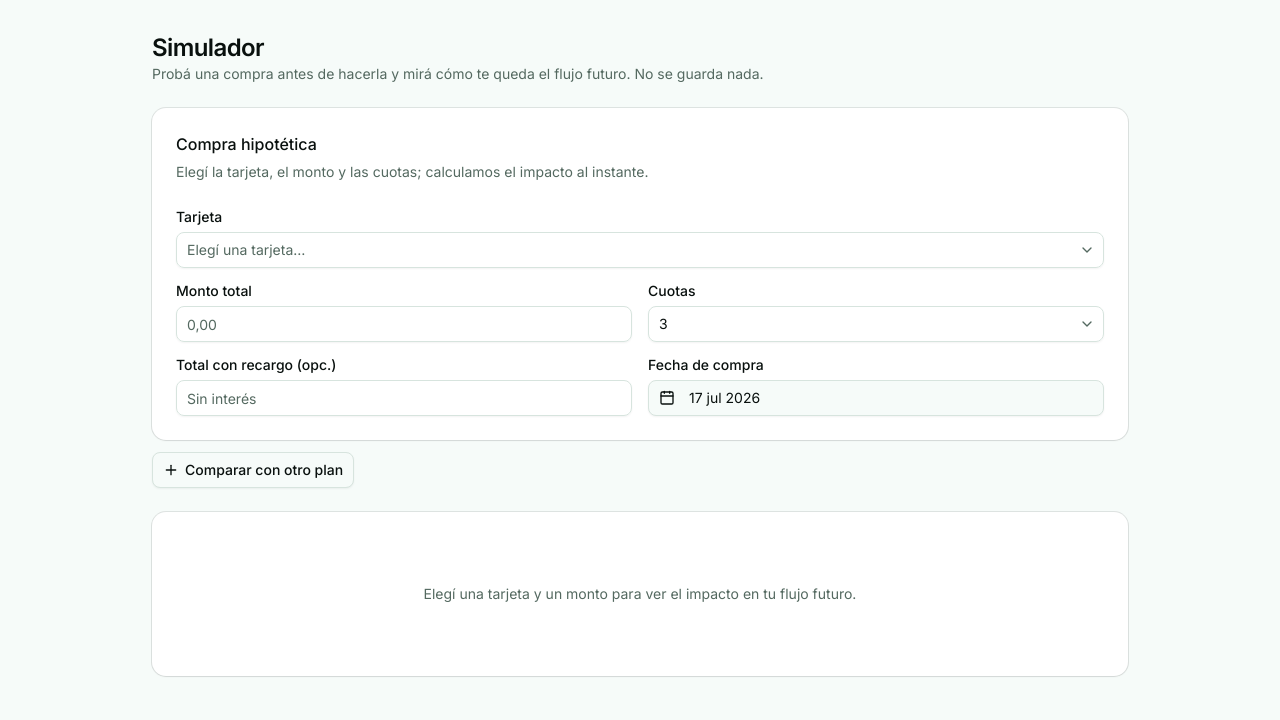
Test: SimulatorClient › con una tarjeta multi-moneda, aparece el selector de moneda con ARS y USD
The width and height of the screenshot is (1280, 720).
Check: the text "Moneda" is not shown
Click the dropdown labelled "Elegí una tarjeta…". click: {"x": 246, "y": 250}
box: left=176, top=232, right=1104, bottom=268
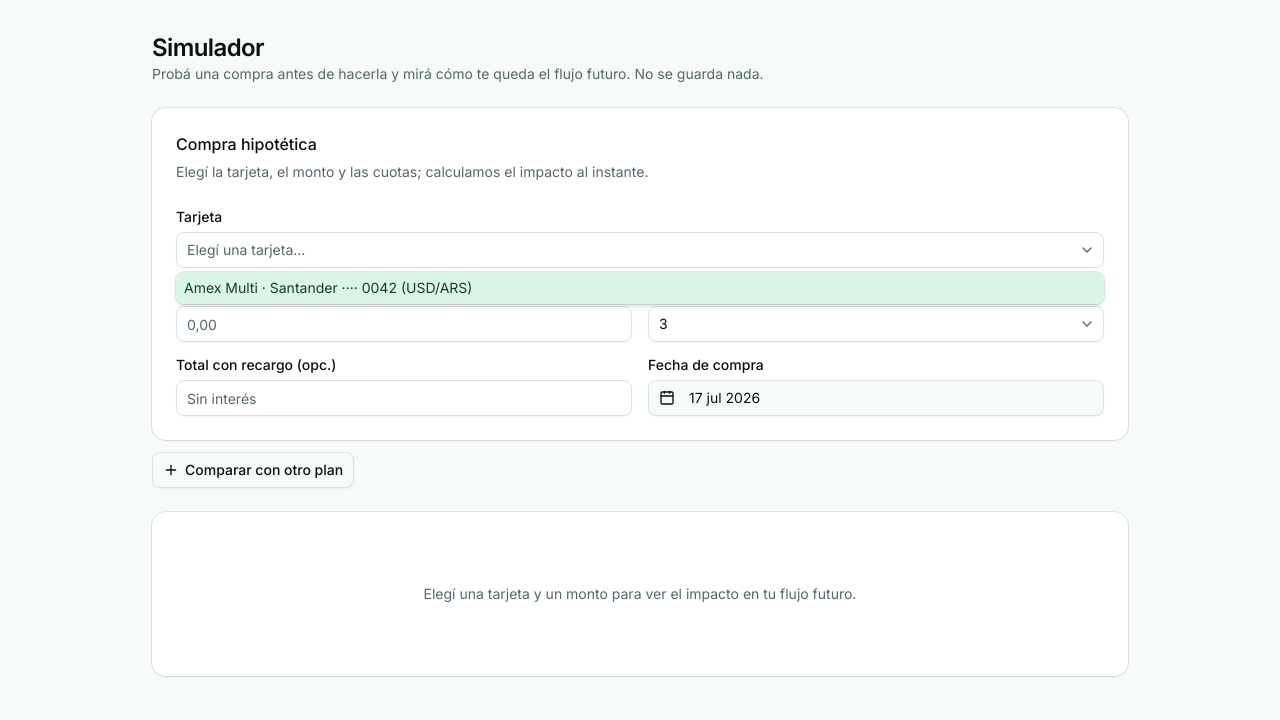
Click the option "Amex Multi · Santander ···· 0042 (USD/ARS)". click: {"x": 221, "y": 288}
box: left=176, top=272, right=1104, bottom=304
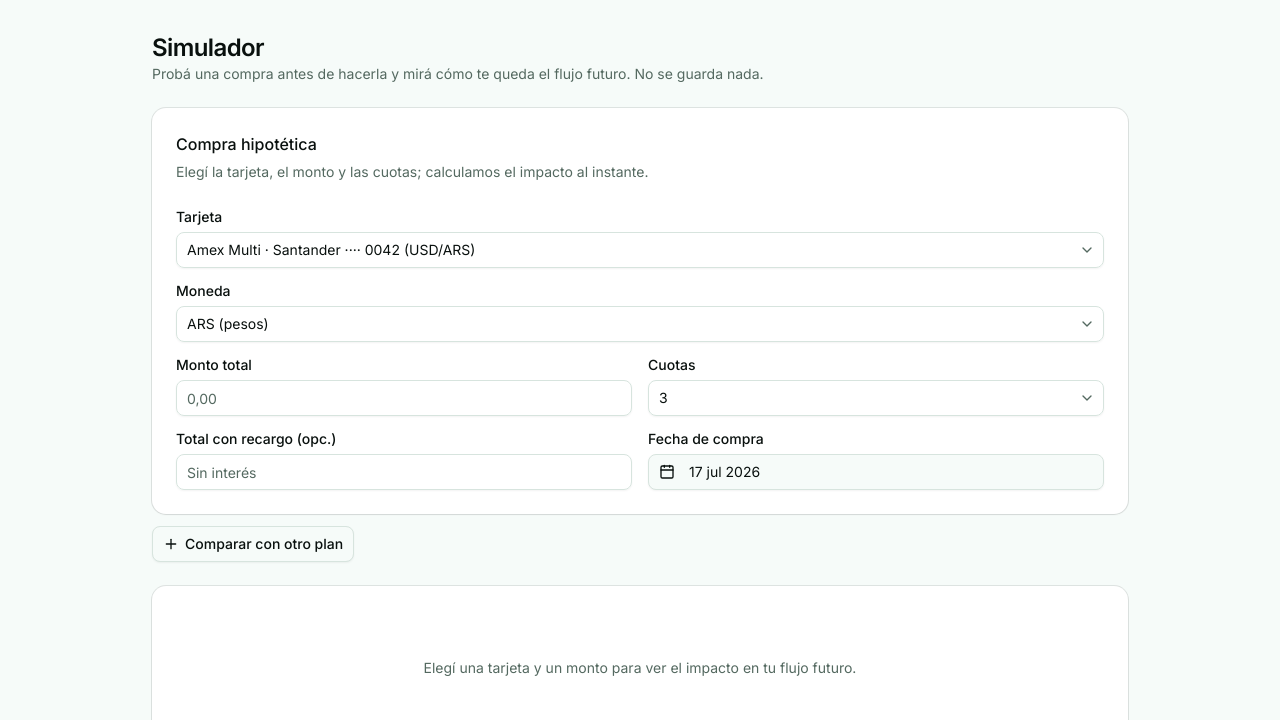
Check: the text "Moneda" is shown, box left=176, top=282, right=230, bottom=299
Check: the dropdown labelled "ARS (pesos)" is shown
Click the dropdown labelled "ARS (pesos)". click: {"x": 228, "y": 324}
box: left=176, top=306, right=1104, bottom=342
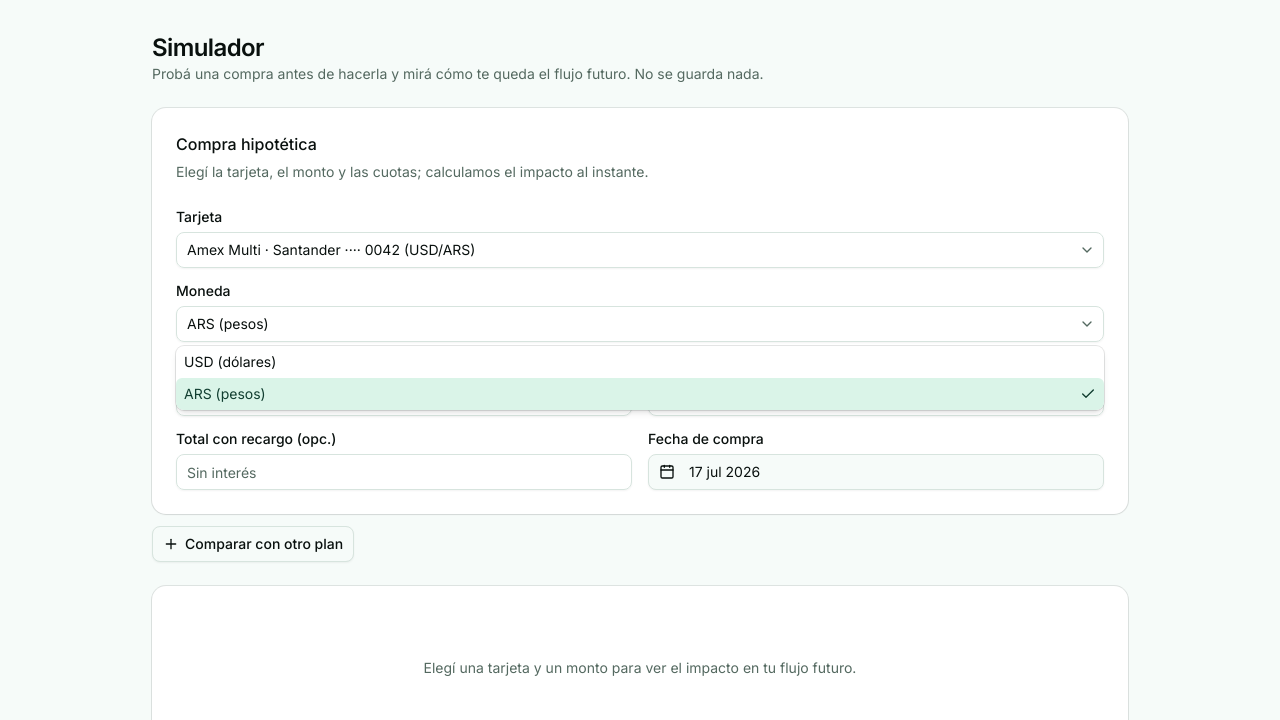
Check: the option "USD (dólares)" is shown, box left=184, top=353, right=276, bottom=370
Check: the option "ARS (pesos)" is shown, box left=176, top=378, right=1104, bottom=410
